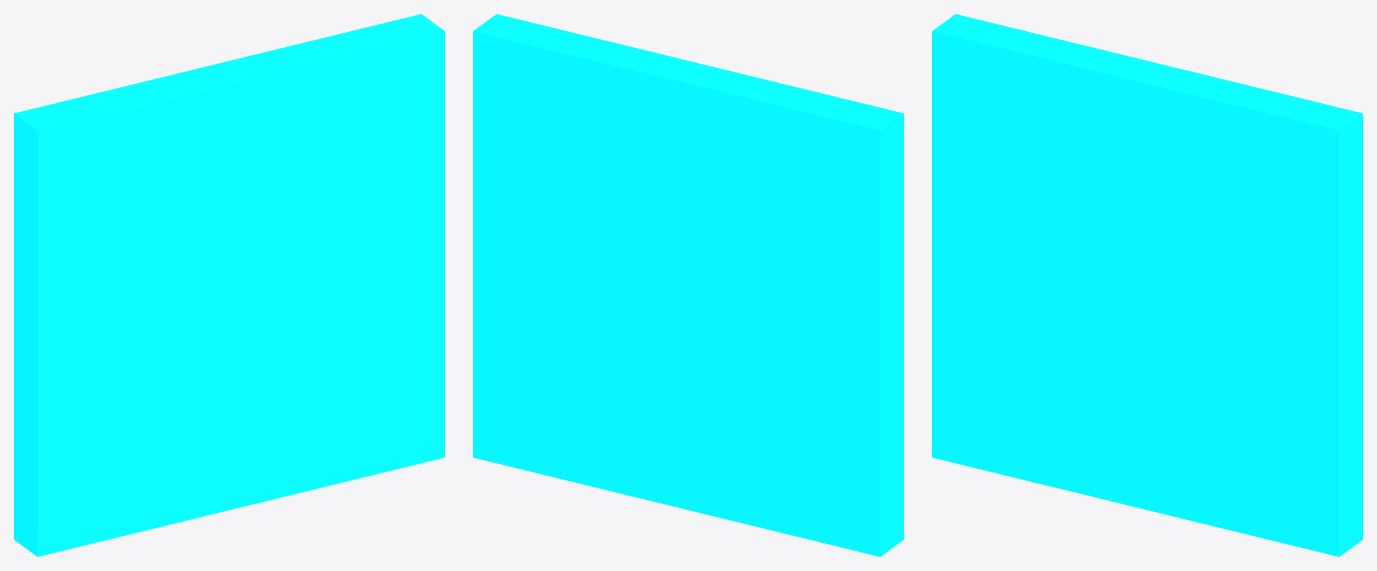
The model's file is obstaculo.fbx.
The picture shows the model from 3 angles, left to right: view 1: azimuth 30°, elevation 25°; view 2: azimuth 150°, elevation 25°; view 3: azimuth 330°, elevation 25°; orthographic projection.
Parts seen in each view (by area): view 1: Cube, Cube.002, Cube.001; view 2: Cube, Cube.001, Cube.002; view 3: Cube, Cube.002, Cube.001.
Part boxes in pixels (x1,y1,x2,y2): Cube: (14,14,444,556); Cube.002: (38,242,444,556); Cube.001: (14,56,444,456); Cube: (473,14,903,556); Cube.001: (473,56,898,555); Cube.002: (473,242,880,556); Cube: (932,14,1362,556); Cube.002: (932,246,1338,556); Cube.001: (933,15,1362,555).
Bounding box in the file's own units: 400 × 400 × 40.
